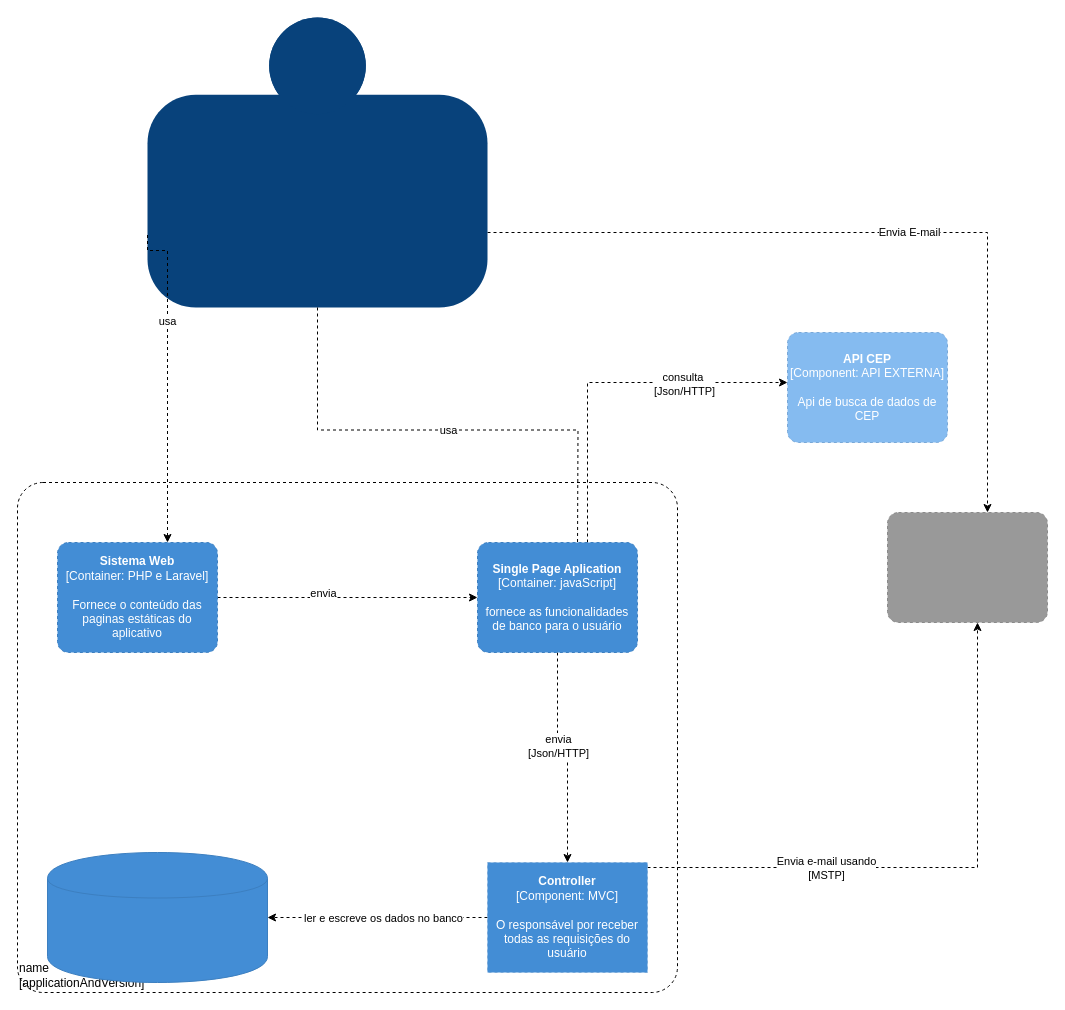
Image size: 1065x1010. Some labels were removed from this diagram. Each missing label, with the box of its shape:
Database [Container: mysql] Armazena dados dos clientes: (46, 852, 268, 982)
Sistema de e-mail [Software System] O sistema de e-mail da Mailtrap: (886, 512, 1048, 622)
User [Person] Usuário que cadastra clientes no sistema: (147, 17, 487, 307)
